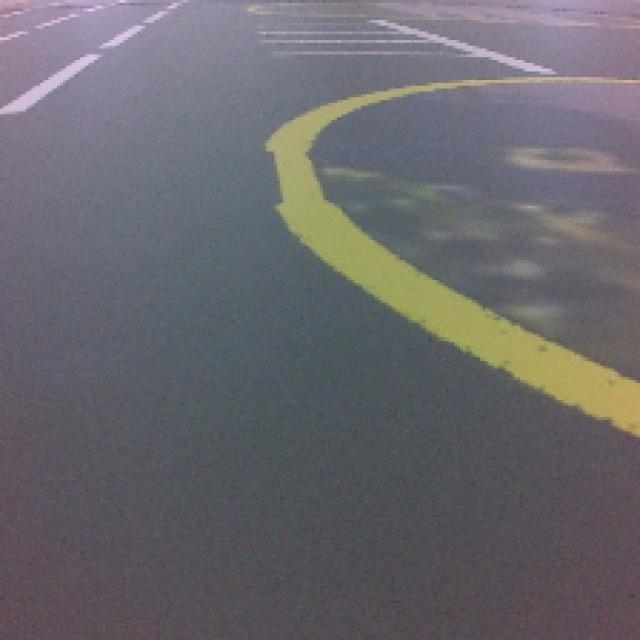Road: (0, 430, 640, 631)
